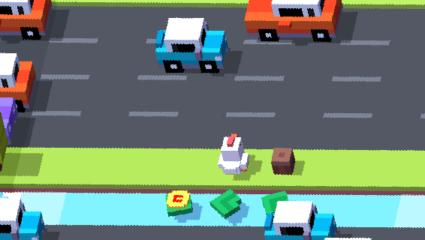hen: (218, 133, 250, 174)
obstacle: (245, 0, 342, 41), (156, 18, 227, 74), (264, 200, 338, 239), (0, 53, 36, 112), (0, 0, 51, 40), (0, 196, 44, 239), (0, 95, 17, 140), (272, 148, 295, 174)
timber: (211, 190, 242, 219), (165, 191, 194, 218), (261, 193, 286, 216)
